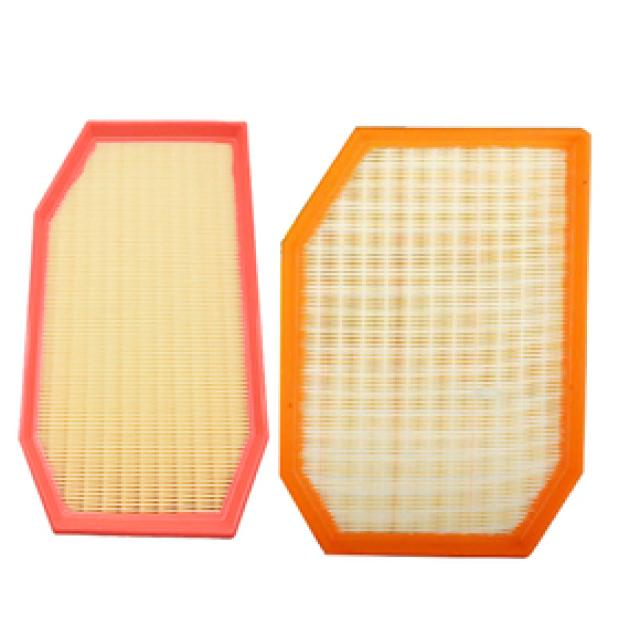air_filter: (279, 122, 598, 564), (15, 120, 269, 544)
